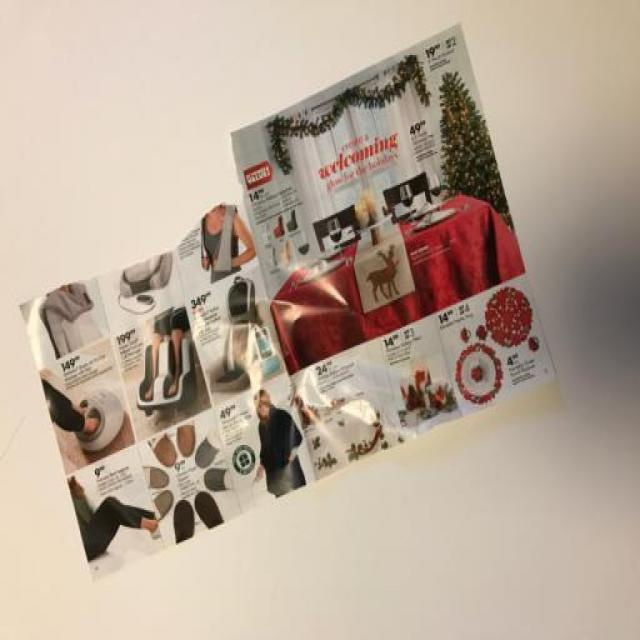paper: (25, 36, 573, 543), (216, 63, 572, 458), (30, 190, 295, 579)
